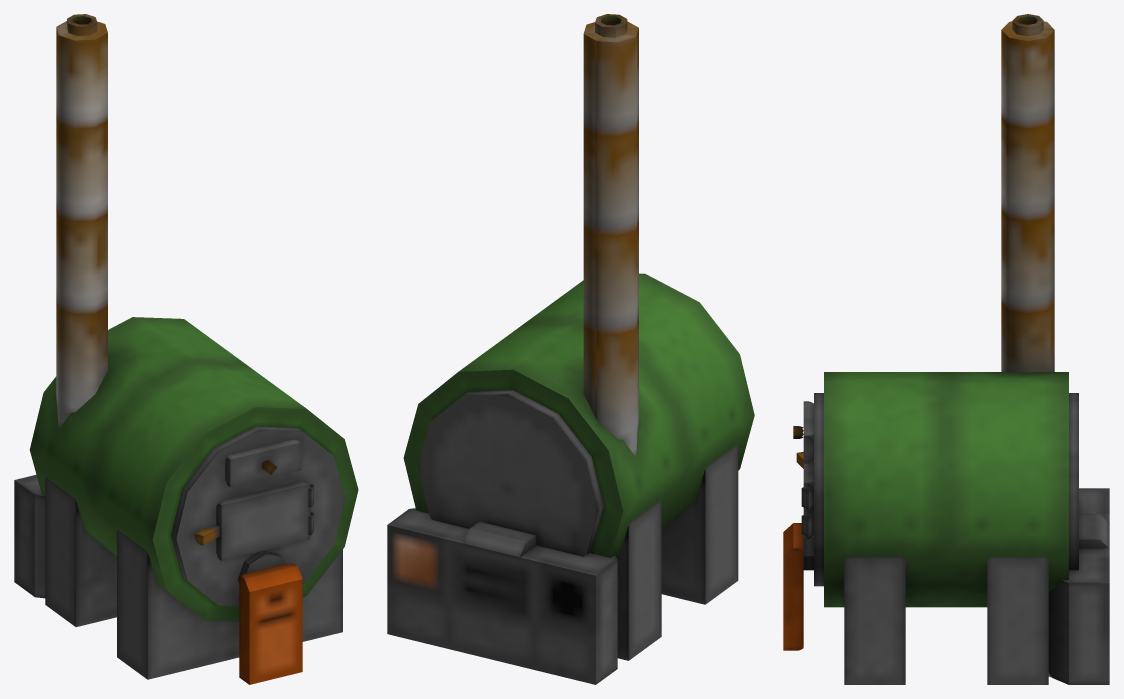
File: machine_wood_burner.obj
The picture shows the model from 3 angles, left to right: view 1: azimuth 30°, elevation 25°; view 2: azimuth 150°, elevation 25°; view 3: azimuth 270°, elevation 25°; orthographic projection. The views are drawn at different scales.
Visible parts, largest first — view 1: Cylinder; view 2: Cylinder; view 3: Cylinder.
Boxes of the visible parts, x1,y1,x2,y2 form: Cylinder: (14,14,358,684); Cylinder: (387,14,754,684); Cylinder: (783,14,1109,684).
Bounding box in the file's own units: 1.45 × 3.94 × 2.
